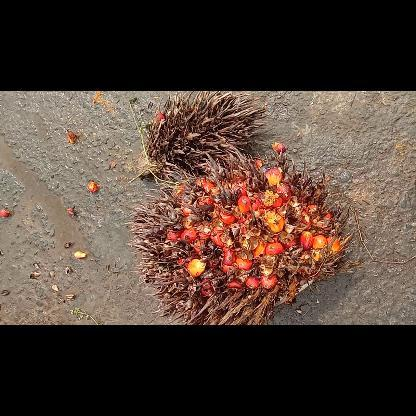Janjang kosong: (126, 90, 266, 176)
Terlalu masak: (126, 146, 359, 324)
